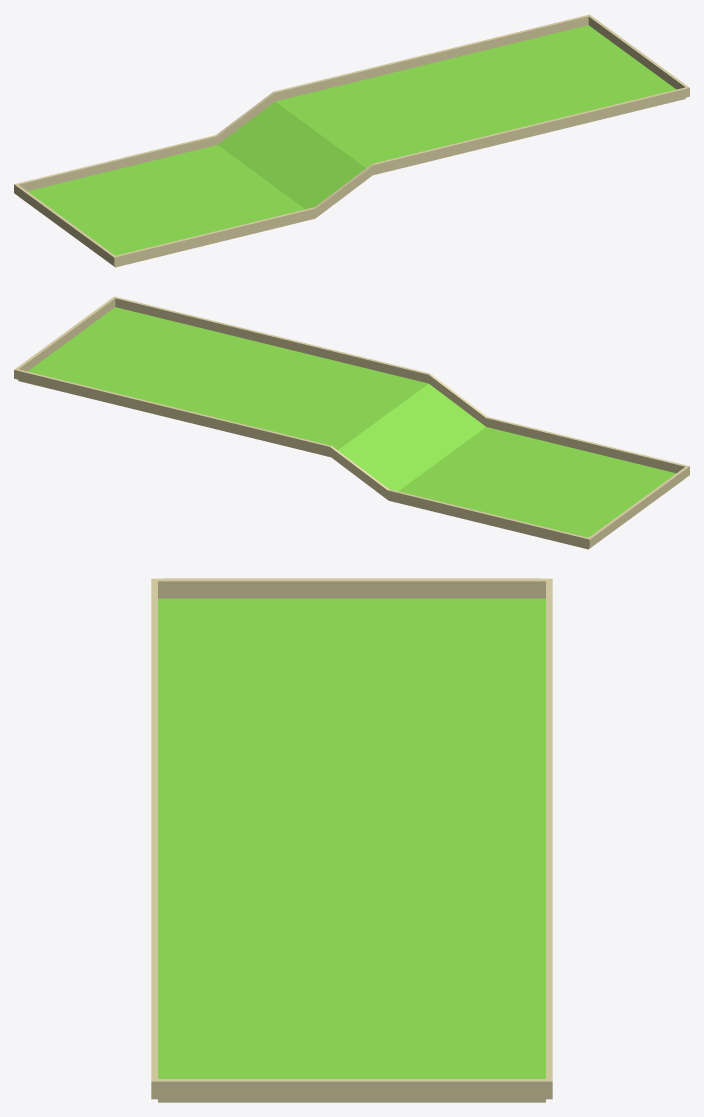
Rendered from study_course_3.fbx.
3 views of the same model, one above another, from view 1: azimuth 30°, elevation 25°; view 2: azimuth 150°, elevation 25°; view 3: azimuth 270°, elevation 25° (orthographic). The views are drawn at different scales.
Visible parts, largest first — view 1: t1.006, t1_walls.005; view 2: t1.006, t1_walls.005; view 3: t1.006, t1_walls.005.
Boxes of the visible parts, x1,y1,x2,y2 form: t1.006: (19,25,685,267); t1_walls.005: (14,14,689,266); t1.006: (18,307,684,549); t1_walls.005: (14,296,689,548); t1.006: (158,598,545,1102); t1_walls.005: (151,578,552,1099).
Size of the model in its own units: 1028 by 70 by 310.
